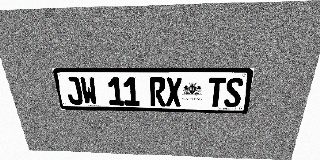1: (122, 77, 140, 106), (106, 77, 124, 105)
J: (64, 77, 84, 105)
R: (149, 77, 166, 106)
S: (224, 77, 244, 107)
T: (207, 77, 226, 107)
W: (79, 77, 98, 105)
X: (166, 77, 182, 106)
